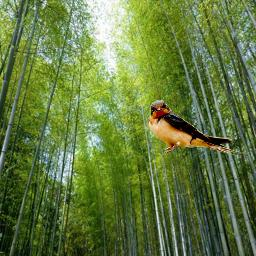Swallow: (147, 100, 243, 159)
